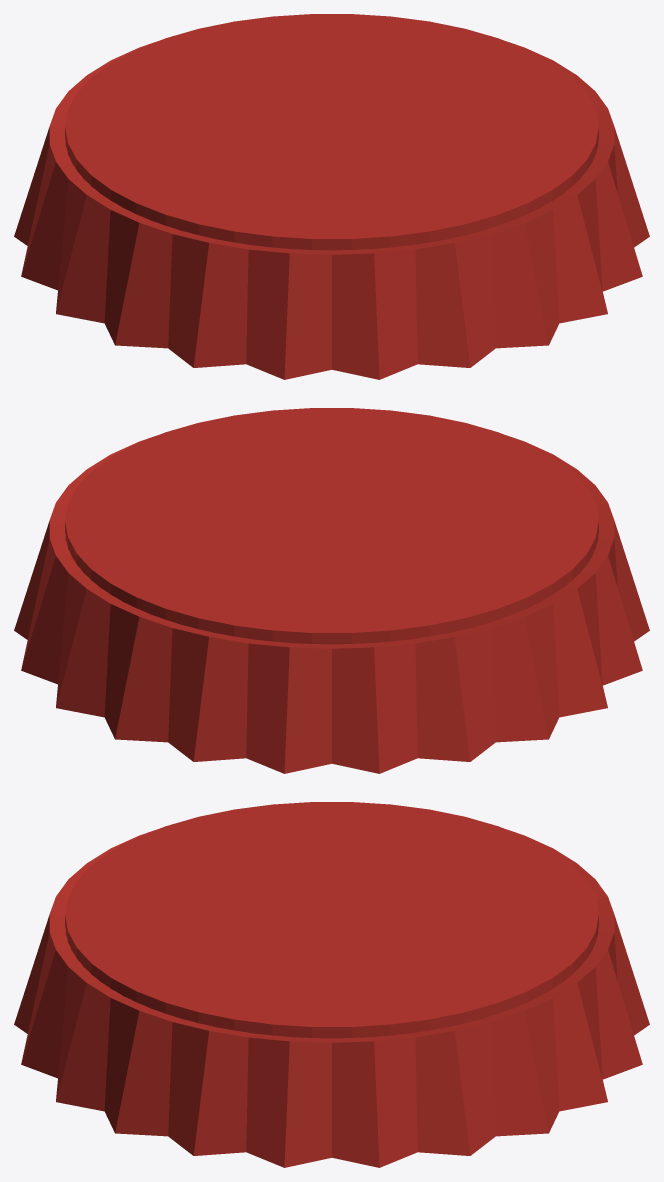
File: FindBottleCap.glb
3 views of the same model, one above another, from view 1: azimuth 30°, elevation 25°; view 2: azimuth 150°, elevation 25°; view 3: azimuth 270°, elevation 25° (orthographic).
Parts seen in each view (by area): view 1: Cap2_1.001; view 2: Cap2_1.001; view 3: Cap2_1.001.
Part boxes in pixels (left/top/right/bottom): Cap2_1.001: left=14, top=14, right=649, bottom=379; Cap2_1.001: left=14, top=408, right=649, bottom=773; Cap2_1.001: left=14, top=802, right=649, bottom=1167.
Size of the model in its own units: 0.0309 by 0.0066 by 0.031.
